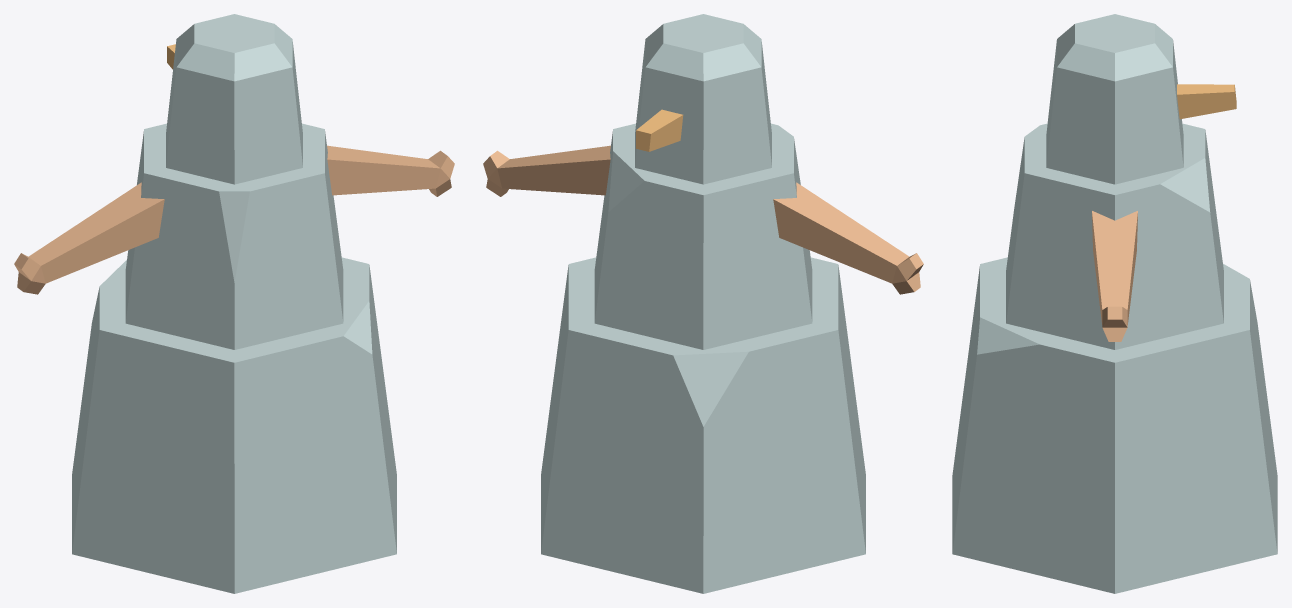
File: snowman.glb
The picture shows the model from 3 angles, left to right: view 1: azimuth 30°, elevation 25°; view 2: azimuth 150°, elevation 25°; view 3: azimuth 270°, elevation 25°; orthographic projection.
Parts seen in each view (by area): view 1: snowman; view 2: snowman; view 3: snowman.
Part boxes in pixels (box(x1,y1,x2,y2)): snowman: box(14, 14, 454, 593); snowman: box(483, 14, 923, 593); snowman: box(952, 14, 1277, 593).
Bounding box in the file's own units: 0.6935 × 0.7356 × 0.4503.
